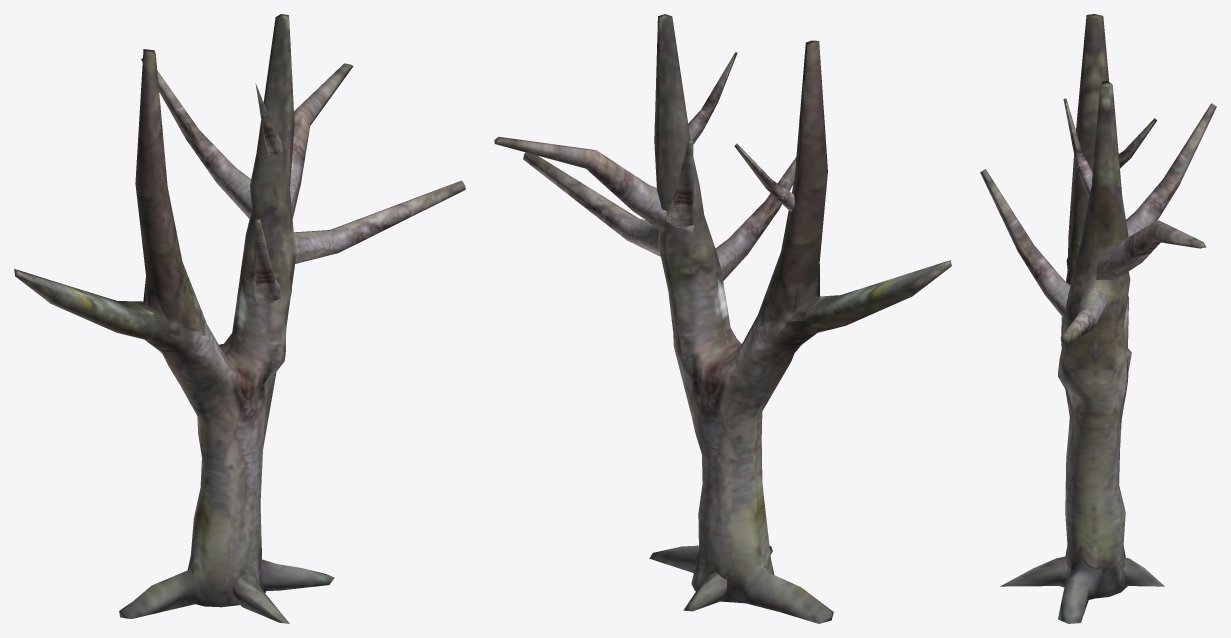
3 renders of one model, left to right at view 1: azimuth 30°, elevation 25°; view 2: azimuth 150°, elevation 25°; view 3: azimuth 270°, elevation 25°, orthographic. The views are drawn at different scales.
Parts seen in each view (by area): view 1: U3DMesh; view 2: U3DMesh; view 3: U3DMesh.
Part boxes in pixels (bbox=[...]): U3DMesh: bbox=[14, 14, 465, 623]; U3DMesh: bbox=[494, 14, 951, 623]; U3DMesh: bbox=[980, 14, 1216, 623].
Bounding box in the file's own units: 238 × 294 × 118.
1 material, 1 textured.
